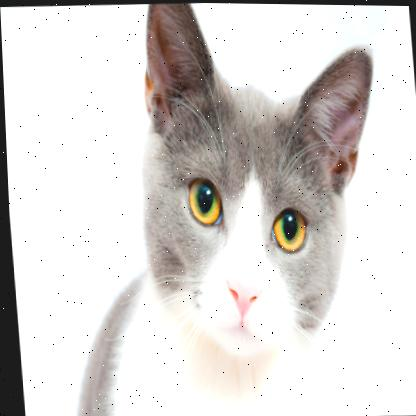cat: (40, 1, 405, 416)
